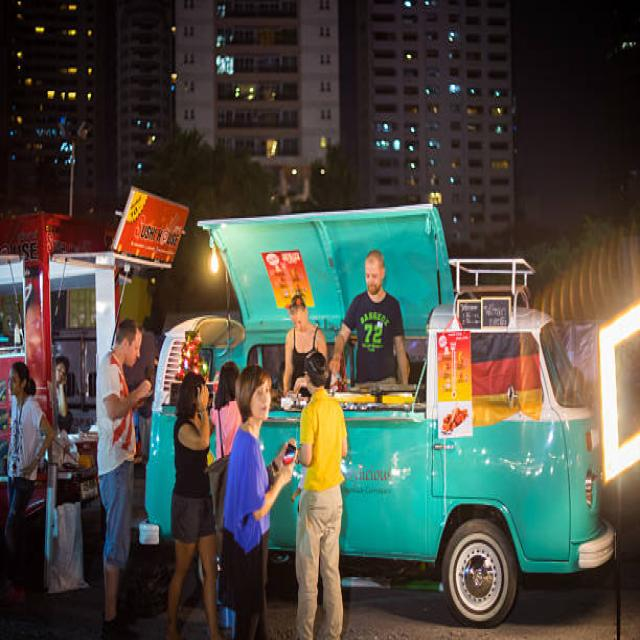Emperan: (137, 175, 623, 634)
